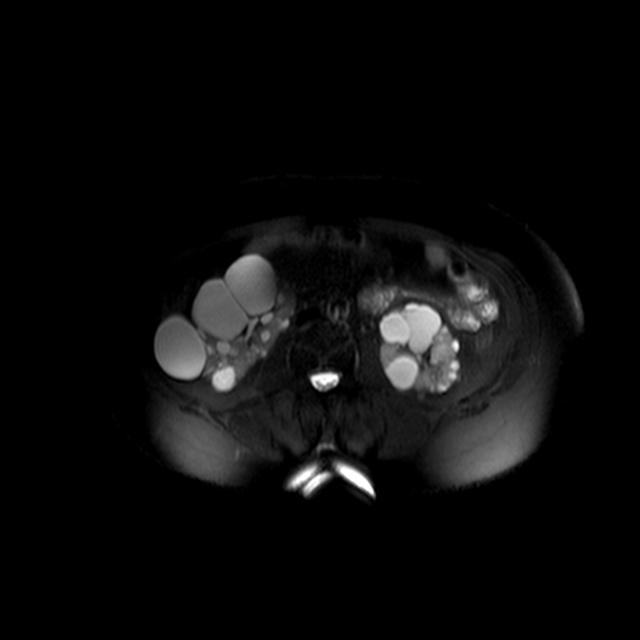sag: (153, 253, 298, 393)
sol: (379, 301, 461, 394)
